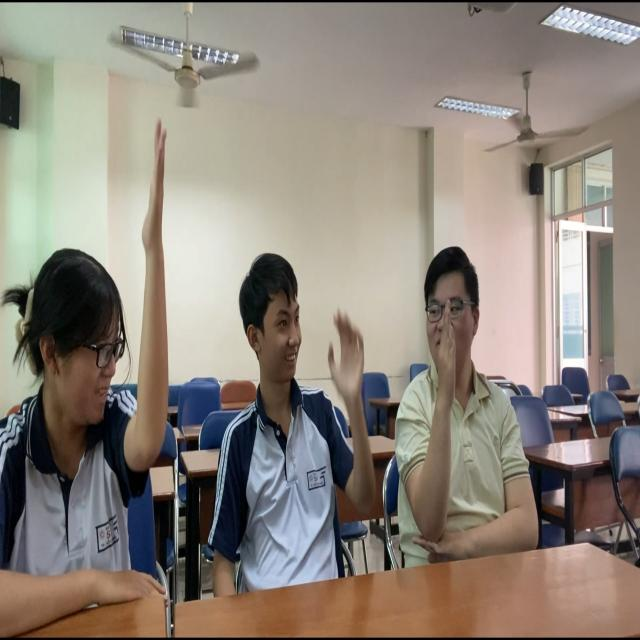raise_hand: (1, 110, 174, 640), (393, 236, 546, 592)
